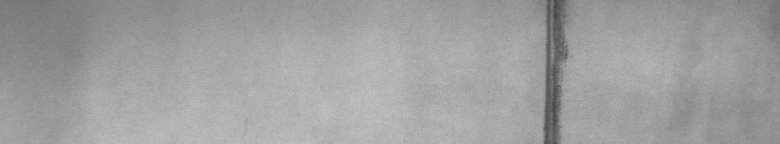hd: (536, 4, 572, 136)
